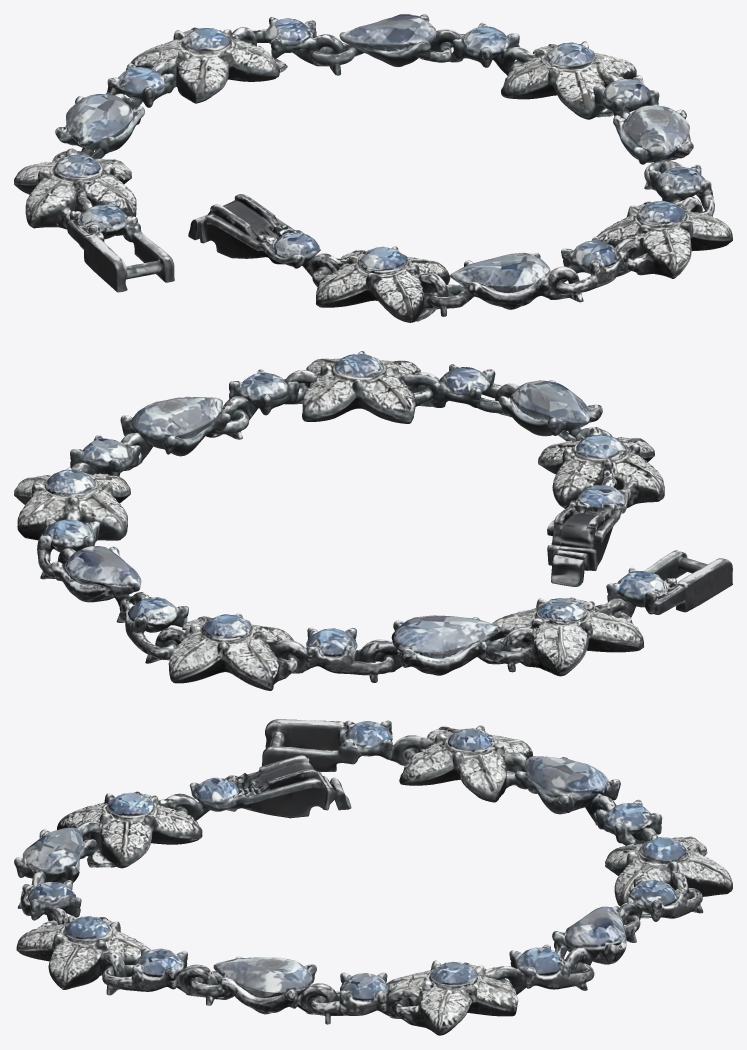
The model's file is tigers-eye.glb.
The picture shows the model from 3 angles, top to bottom: view 1: azimuth 30°, elevation 25°; view 2: azimuth 150°, elevation 25°; view 3: azimuth 270°, elevation 25°; orthographic projection. The views are drawn at different scales.
Visible parts, largest first — view 1: tripo_node_6059e9ab-5585-404e-b765-d092cc907169; view 2: tripo_node_6059e9ab-5585-404e-b765-d092cc907169; view 3: tripo_node_6059e9ab-5585-404e-b765-d092cc907169.
Part boxes in pixels (x1,y1,x2,y2): tripo_node_6059e9ab-5585-404e-b765-d092cc907169: (14, 14, 732, 322); tripo_node_6059e9ab-5585-404e-b765-d092cc907169: (14, 351, 732, 690); tripo_node_6059e9ab-5585-404e-b765-d092cc907169: (14, 719, 732, 1035).
Size of the model in its own units: 0.9442 by 0.0706 by 0.9784.
1 material, 1 textured.
